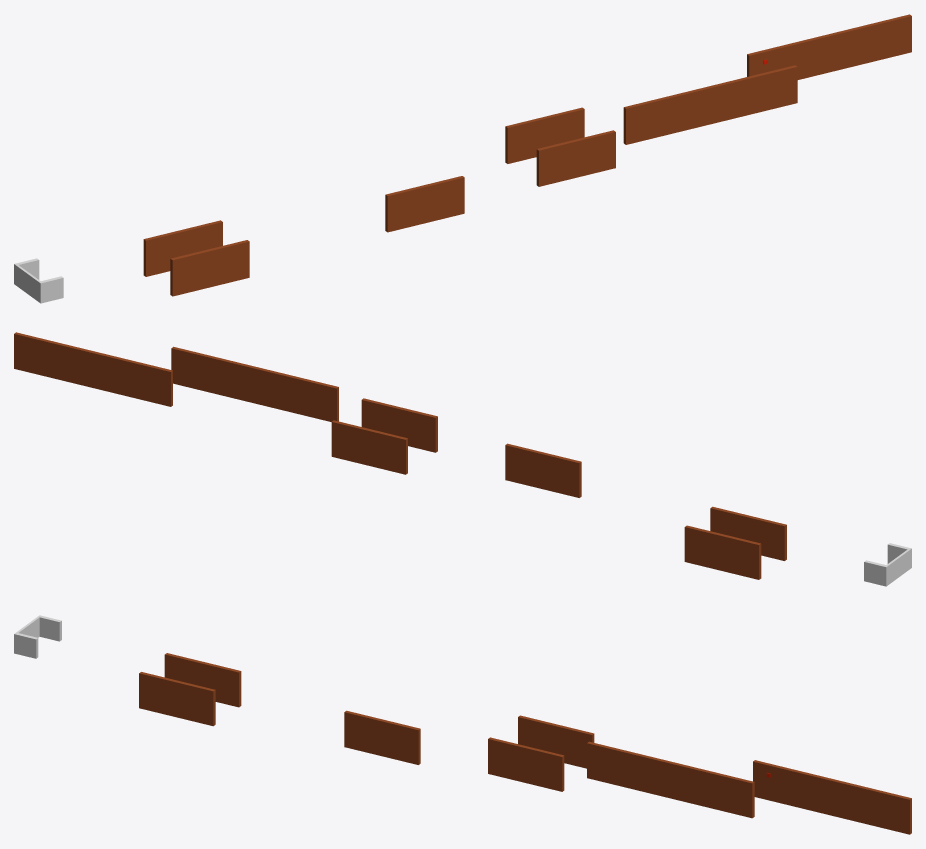
File: stage1_wall.fbx
3 renders of one model, top to bottom at view 1: azimuth 30°, elevation 25°; view 2: azimuth 150°, elevation 25°; view 3: azimuth 330°, elevation 25°, orthographic. The views are drawn at different scales.
Visible parts, largest first — view 1: 2walltowall1, 2walltowall2, 2rightwall, 1Wirewall1, 1Wirewall1.001, 1Wirewall2, 2leftwall, 0wall2; view 2: 2walltowall1, 2walltowall2, 2leftwall, 1Wirewall1.001, 1Wirewall2, 1Wirewall1, 2rightwall, 0wall2; view 3: 2walltowall1, 2walltowall2, 1Wirewall1, 1Wirewall1.001, 2rightwall, 1Wirewall2, 2leftwall, 0wall3, 0wall.
Part boxes in pixels (left/top/right/bottom): 2walltowall1: left=623, top=65, right=797, bottom=144; 2walltowall2: left=747, top=14, right=911, bottom=79; 2rightwall: left=170, top=240, right=249, bottom=296; 1Wirewall1: left=536, top=130, right=615, bottom=186; 1Wirewall1.001: left=385, top=176, right=464, bottom=232; 1Wirewall2: left=505, top=107, right=584, bottom=163; 2leftwall: left=143, top=220, right=222, bottom=276; 0wall2: left=14, top=263, right=42, bottom=303; 2walltowall1: left=171, top=346, right=338, bottom=421; 2walltowall2: left=14, top=332, right=172, bottom=406; 2leftwall: left=684, top=525, right=761, bottom=579; 1Wirewall1.001: left=505, top=443, right=581, bottom=497; 1Wirewall2: left=331, top=420, right=407, bottom=474; 1Wirewall1: left=361, top=398, right=437, bottom=452; 2rightwall: left=710, top=506, right=786, bottom=560; 0wall2: left=884, top=548, right=911, bottom=586; 2walltowall1: left=587, top=741, right=754, bottom=818; 2walltowall2: left=753, top=760, right=911, bottom=834; 1Wirewall1: left=488, top=737, right=564, bottom=791; 1Wirewall1.001: left=344, top=710, right=420, bottom=764; 2rightwall: left=139, top=672, right=215, bottom=726; 1Wirewall2: left=518, top=715, right=594, bottom=768; 2leftwall: left=164, top=653, right=241, bottom=707; 0wall3: left=16, top=633, right=38, bottom=658; 0wall: left=39, top=616, right=61, bottom=641.
Bounding box in the file's own units: 2339 × 177 × 156.
